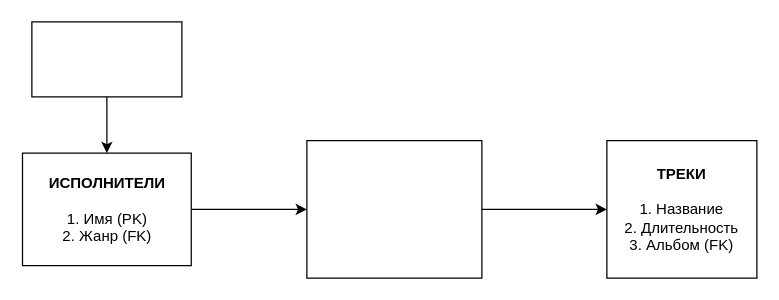
The diagram is 779 pixels wide and 300 high, and some of its shapes have lost their labels. The centre of each missing label's shape, as x and y in pixels:
"АЛЬБОМЫ 1. Название ()PK 2. Год выпуска 3. исполнитель (FK)" goes at [394,208].
"ЖАНР 1. ID (PK) 2. Название" goes at [106,59].
